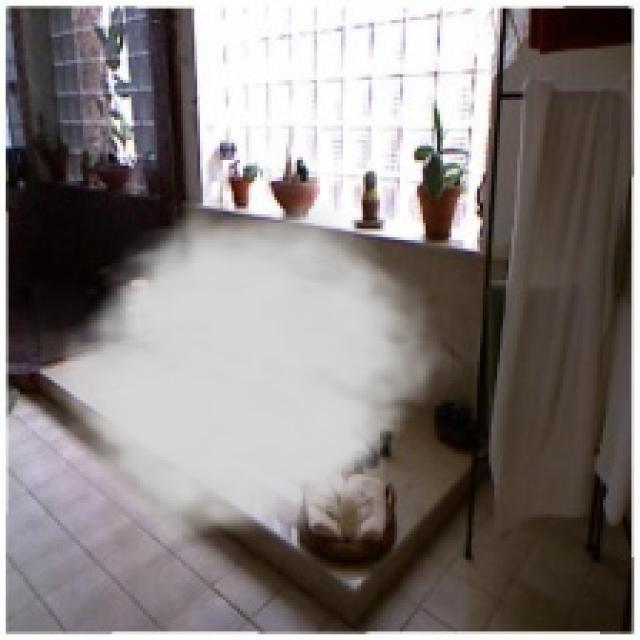Smoke: (39, 200, 452, 554)
